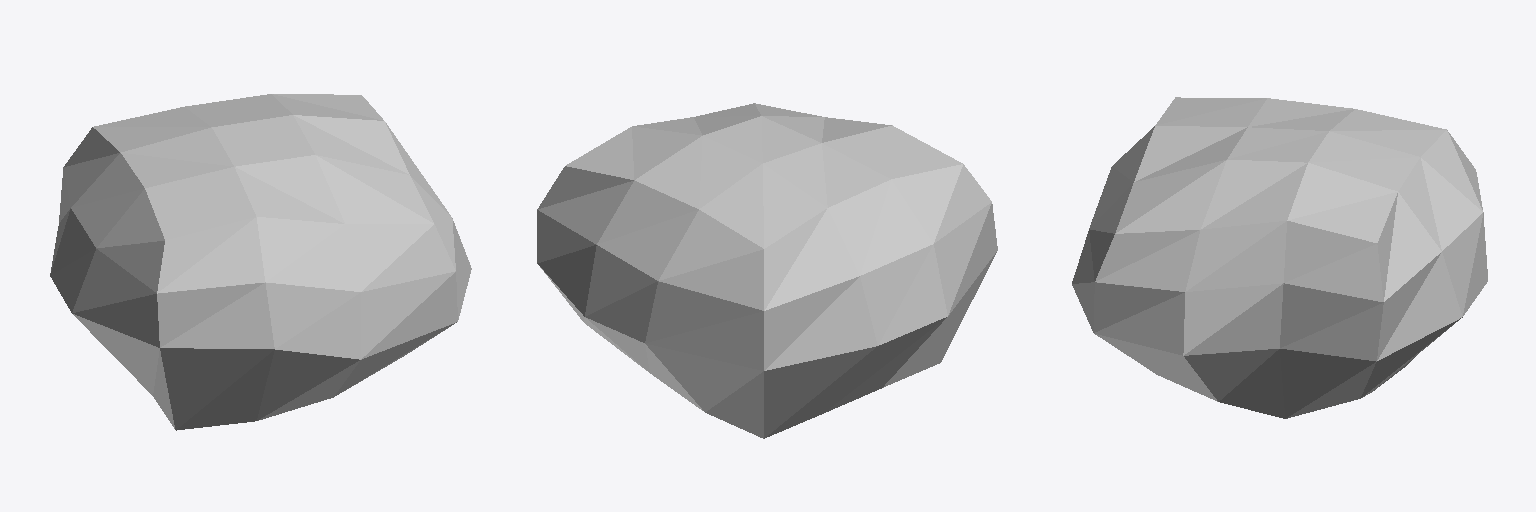
The model's file is NeanderRock1.obj.
3 renders of one model, left to right at view 1: azimuth 30°, elevation 25°; view 2: azimuth 150°, elevation 25°; view 3: azimuth 270°, elevation 25°, orthographic.
Visible parts, largest first — view 1: pCube4; view 2: pCube4; view 3: pCube4.
Boxes of the visible parts, box(x1,y1,x2,y2) form: pCube4: box(50, 94, 471, 430); pCube4: box(537, 103, 997, 438); pCube4: box(1072, 97, 1487, 418).
Size of the model in its own units: 8.67 by 5.38 by 8.59.